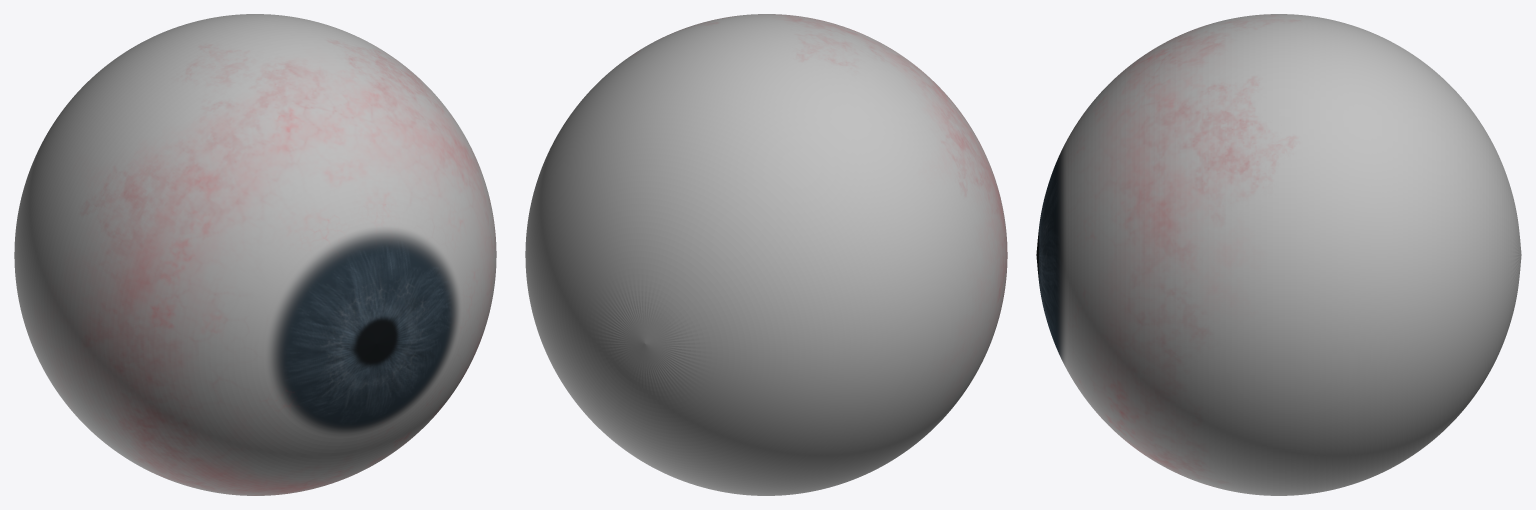
File: OJOS.glb
The picture shows the model from 3 angles, left to right: view 1: azimuth 30°, elevation 25°; view 2: azimuth 150°, elevation 25°; view 3: azimuth 270°, elevation 25°; orthographic projection.
Visible parts, largest first — view 1: Esfera.002; view 2: Esfera.002; view 3: Esfera.002.
Boxes of the visible parts, <box> form: Esfera.002: <box>14,14,496,495</box>; Esfera.002: <box>525,14,1007,495</box>; Esfera.002: <box>1036,14,1521,495</box>.
Size of the model in its own units: 0.8163 by 0.8163 by 0.8215.
Materials: 1 (1 with a texture image).
